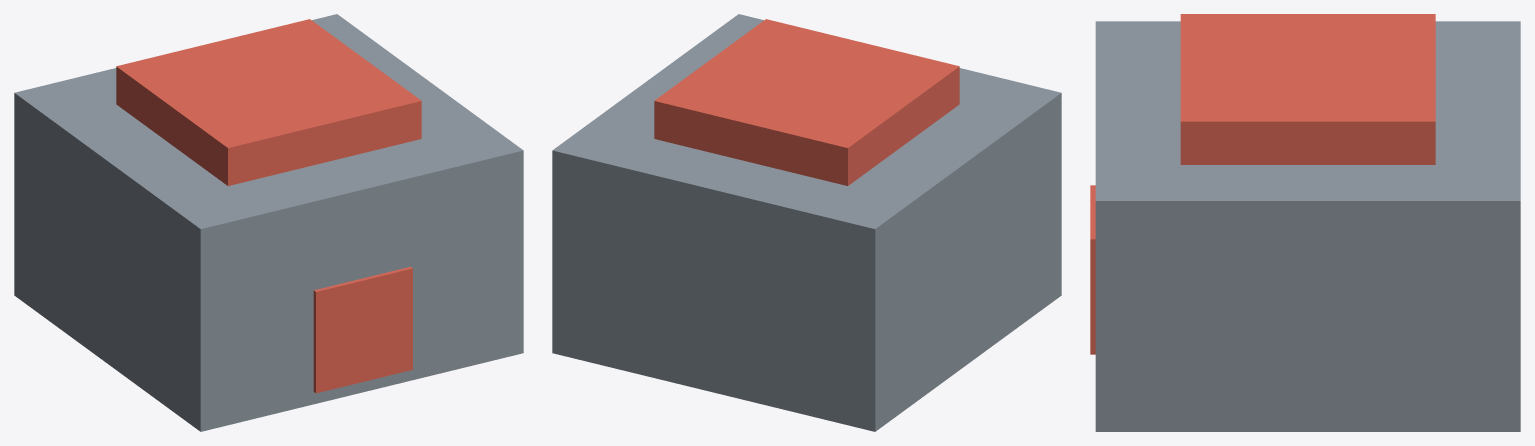
The model's file is SM_Soviet_SU_ConYard_Blockout.fbx.
The picture shows the model from 3 angles, left to right: view 1: azimuth 30°, elevation 25°; view 2: azimuth 150°, elevation 25°; view 3: azimuth 270°, elevation 25°; orthographic projection. The views are drawn at different scales.
Parts seen in each view (by area): view 1: MainBuilding, RoofStructure, EntranceGate; view 2: MainBuilding, RoofStructure; view 3: MainBuilding, RoofStructure, EntranceGate.
Boxes of the visible parts, x1,y1,x2,y2 form: MainBuilding: (14, 14, 523, 431); RoofStructure: (116, 19, 421, 185); EntranceGate: (313, 267, 412, 393); MainBuilding: (552, 14, 1061, 431); RoofStructure: (654, 19, 959, 185); MainBuilding: (1095, 21, 1520, 431); RoofStructure: (1180, 14, 1435, 164); EntranceGate: (1090, 185, 1095, 354).
Bounding box in the file's own units: 800 × 570 × 810.
